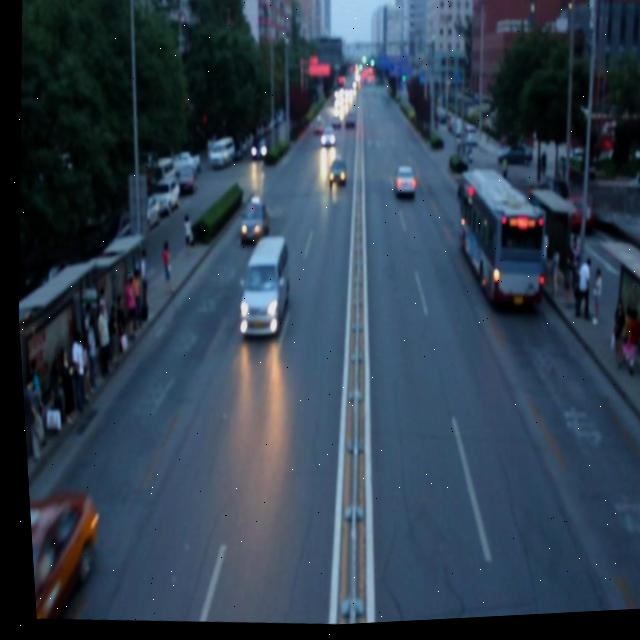car: (23, 489, 97, 622), (233, 196, 266, 242), (388, 169, 415, 204), (324, 158, 345, 190), (317, 127, 335, 150)
truck: (234, 236, 290, 339)
van: (444, 168, 550, 323)
